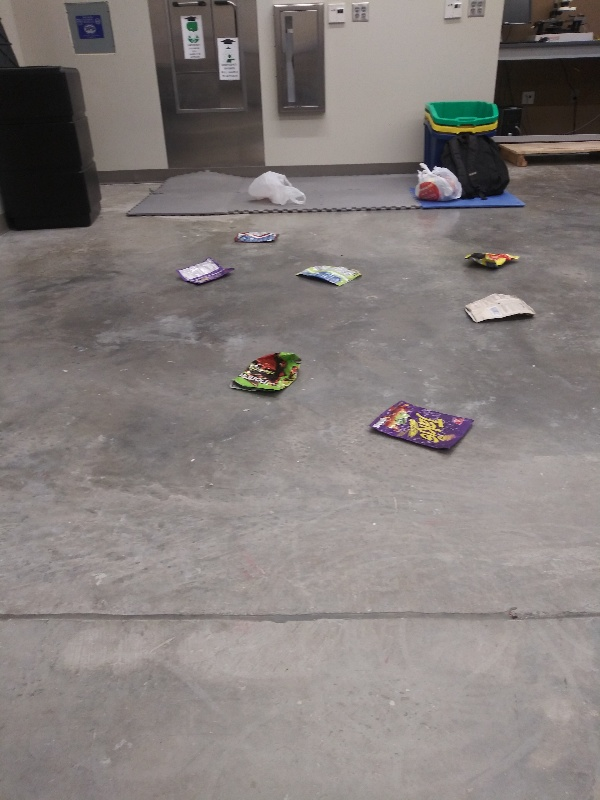bag: (365, 400, 477, 458), (226, 350, 309, 397), (460, 291, 540, 330), (173, 257, 239, 287), (293, 262, 366, 288), (460, 249, 526, 275), (231, 226, 285, 247)
